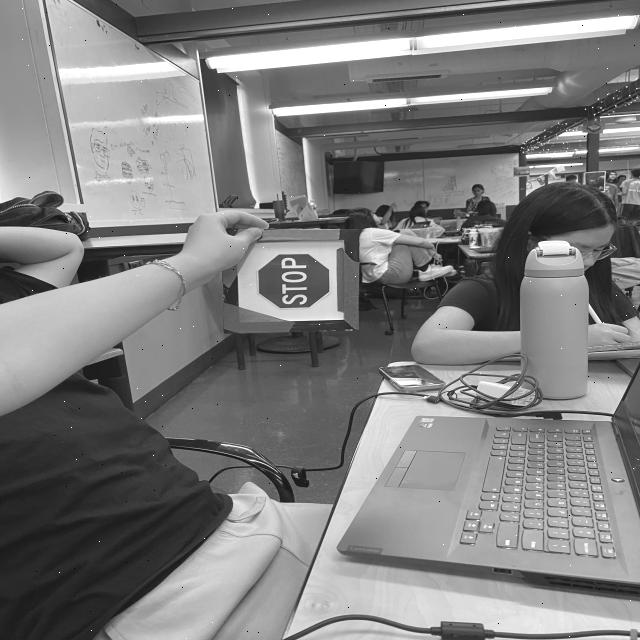stop: (254, 248, 334, 311)
